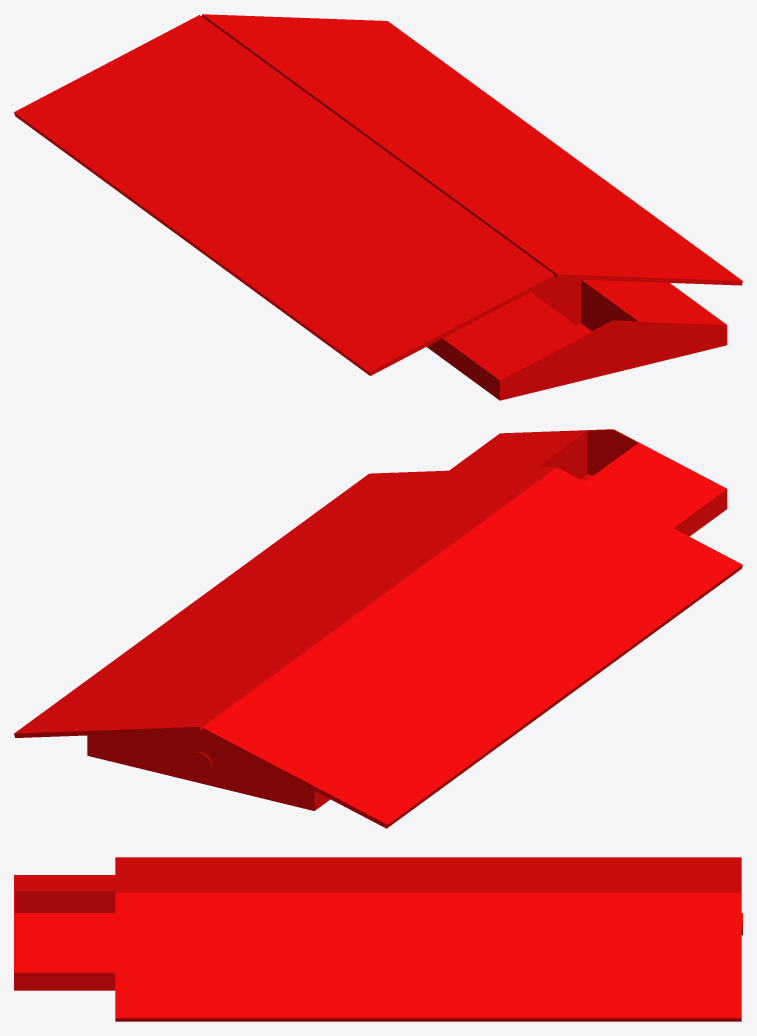
File: Bump Red Optimized.fbx
3 views of the same model, one above another, from view 1: azimuth 30°, elevation 25°; view 2: azimuth 150°, elevation 25°; view 3: azimuth 270°, elevation 25° (orthographic). The views are drawn at different scales.
Visible parts, largest first — view 1: mesh7, mesh12, mesh16, mesh18, mesh17, mesh19, mesh21, mesh14, mesh8, mesh4; view 2: mesh7, mesh12, mesh2, mesh18, mesh17, mesh20, mesh8, mesh4, mesh21, mesh14; view 3: mesh12, mesh7, mesh17, mesh11, mesh23, mesh15, mesh18, mesh6.
Boxes of the visible parts, x1,y1,x2,y2 form: mesh7: [14, 15, 554, 371]; mesh12: [203, 14, 742, 280]; mesh16: [500, 321, 727, 400]; mesh18: [443, 292, 613, 380]; mesh17: [582, 279, 726, 324]; mesh19: [369, 274, 742, 375]; mesh21: [581, 280, 637, 331]; mesh14: [426, 338, 499, 400]; mesh8: [14, 112, 369, 375]; mesh4: [201, 14, 557, 278]; mesh7: [202, 467, 742, 824]; mesh12: [14, 467, 553, 733]; mesh2: [14, 727, 387, 828]; mesh18: [585, 429, 726, 527]; mesh17: [449, 429, 612, 470]; mesh20: [587, 429, 637, 475]; mesh8: [387, 565, 742, 828]; mesh4: [199, 467, 555, 730]; mesh21: [538, 431, 587, 479]; mesh14: [314, 489, 727, 810]; mesh12: [115, 892, 741, 1018]; mesh7: [115, 857, 741, 891]; mesh17: [14, 895, 115, 972]; mesh11: [115, 1018, 741, 1021]; mesh23: [15, 891, 115, 912]; mesh15: [14, 972, 115, 990]; mesh18: [14, 875, 115, 895]; mesh6: [115, 891, 741, 892].
Bounding box in the file's own units: 113 × 16.22 × 216.
